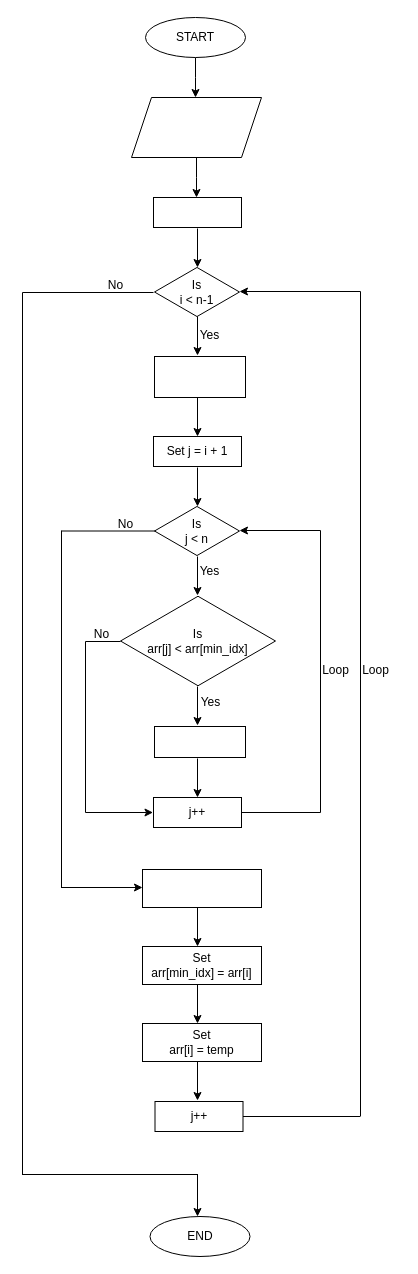
Some shapes in this 418 by 1274 pixel diagram are drawn without their labels. Here are the shapes that lost their labels. From the top down, the box of each, then its label:
(130, 96, 262, 158): Read the length of array in n, and the array in arr
(152, 196, 242, 228): Set i = 0
(154, 356, 246, 398): Set min_idx = i
(154, 726, 246, 758): min_idx = j
(142, 868, 262, 908): Set temp = arr[min_idx]
